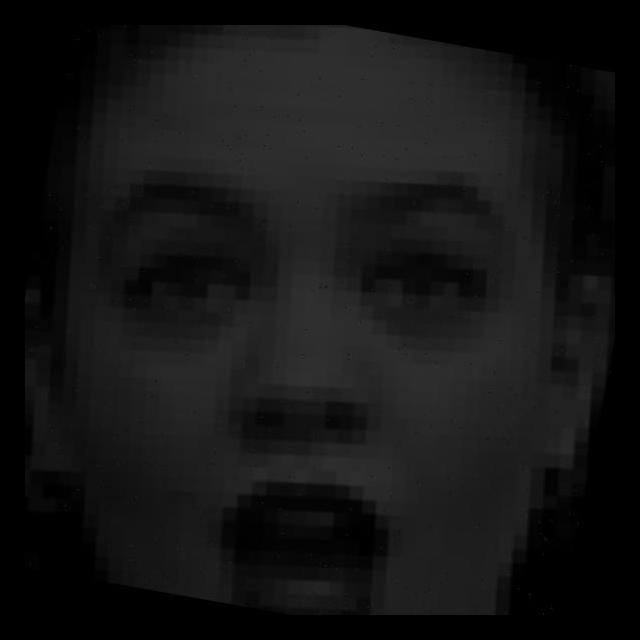Surprised: (58, 130, 591, 611)
